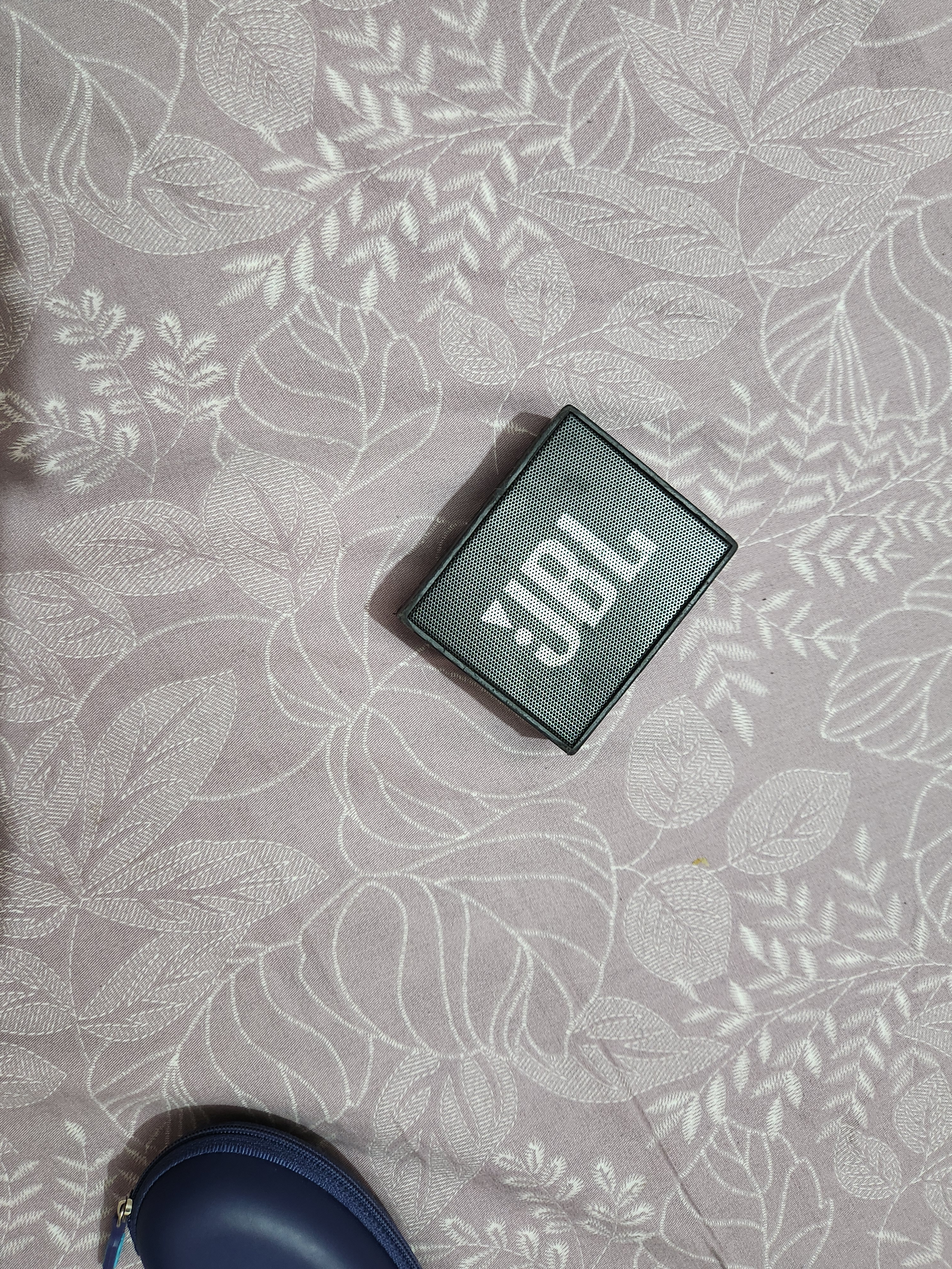case: (98, 1124, 418, 1269)
speaker: (400, 404, 737, 757)
